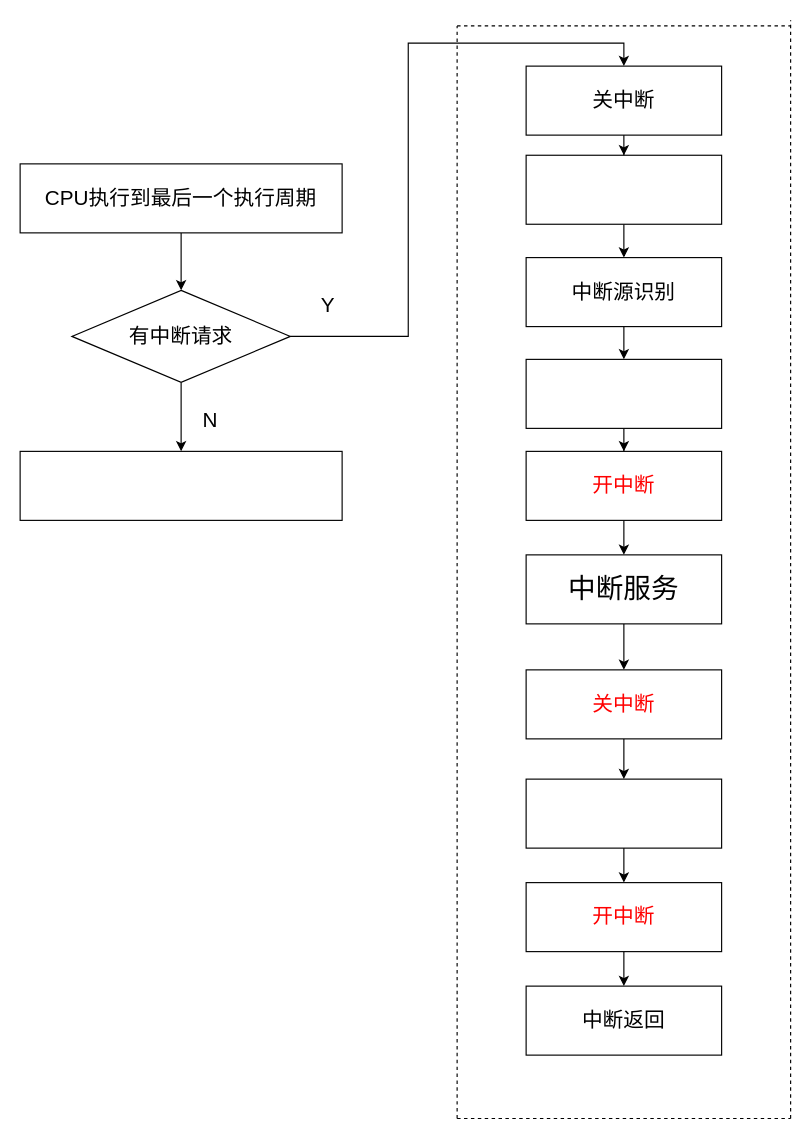
Image size: 812x1141. Some labels were removed from this diagram. The box of each missing label's shape, as (x1, y1, x2, y2) in pixels:
保存断点: (525, 154, 722, 224)
保护现场和 屏蔽字: (525, 358, 722, 428)
取下一条指令执行: (19, 450, 342, 520)
恢复现场和 屏蔽字: (525, 778, 722, 848)
